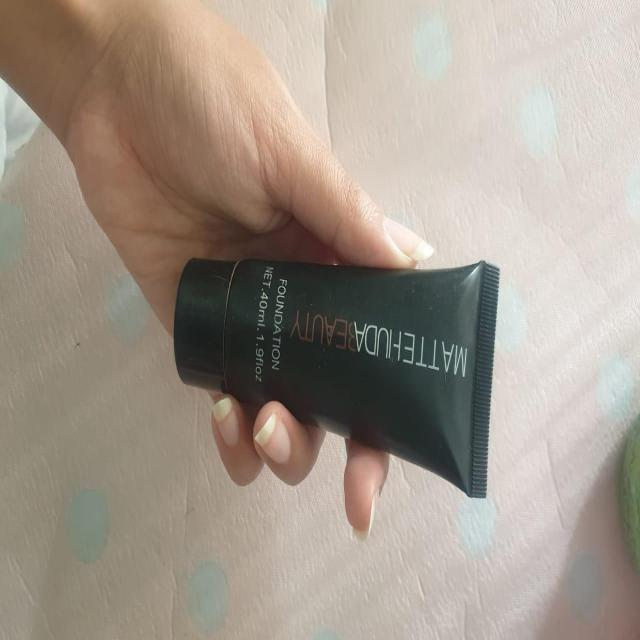foundation: (169, 249, 510, 496)
